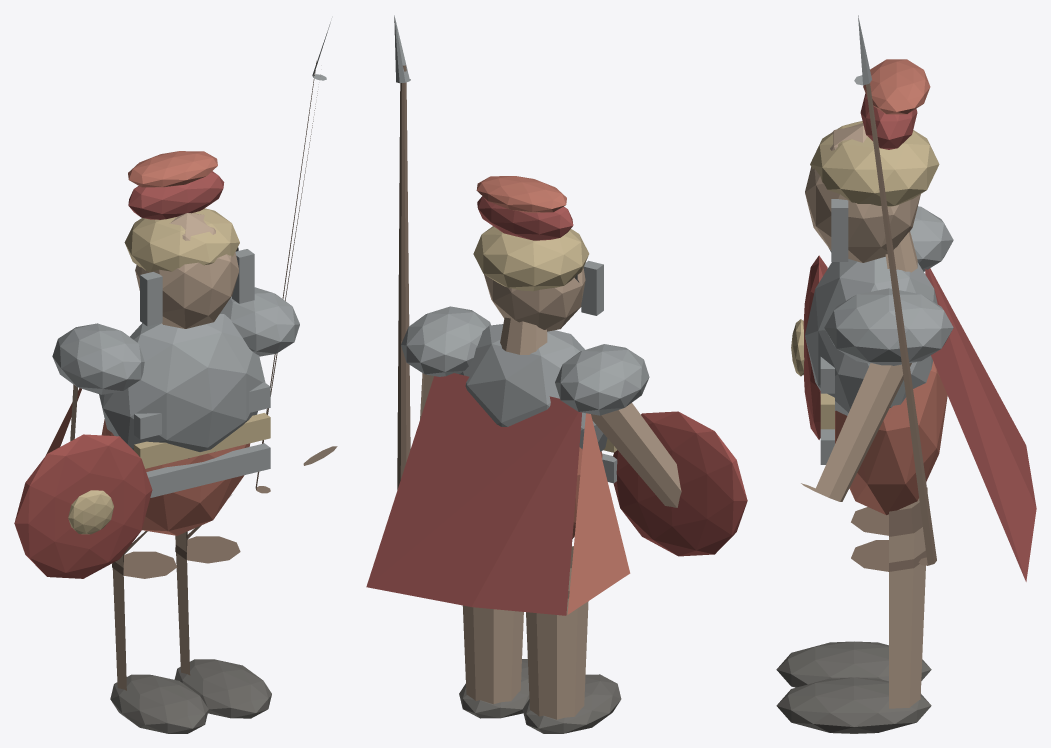
File: roman-light.glb
3 renders of one model, left to right at view 1: azimuth 30°, elevation 25°; view 2: azimuth 150°, elevation 25°; view 3: azimuth 270°, elevation 25°, orthographic. The views are drawn at different scales.
Visible parts, largest first — view 1: world; view 2: world; view 3: world.
Boxes of the visible parts, left/top/right/bottom form: world: left=14, top=22, right=337, bottom=733; world: left=366, top=15, right=747, bottom=733; world: left=776, top=15, right=1036, bottom=733.
Bounding box in the file's own units: 17.5 × 33.05 × 10.05.
